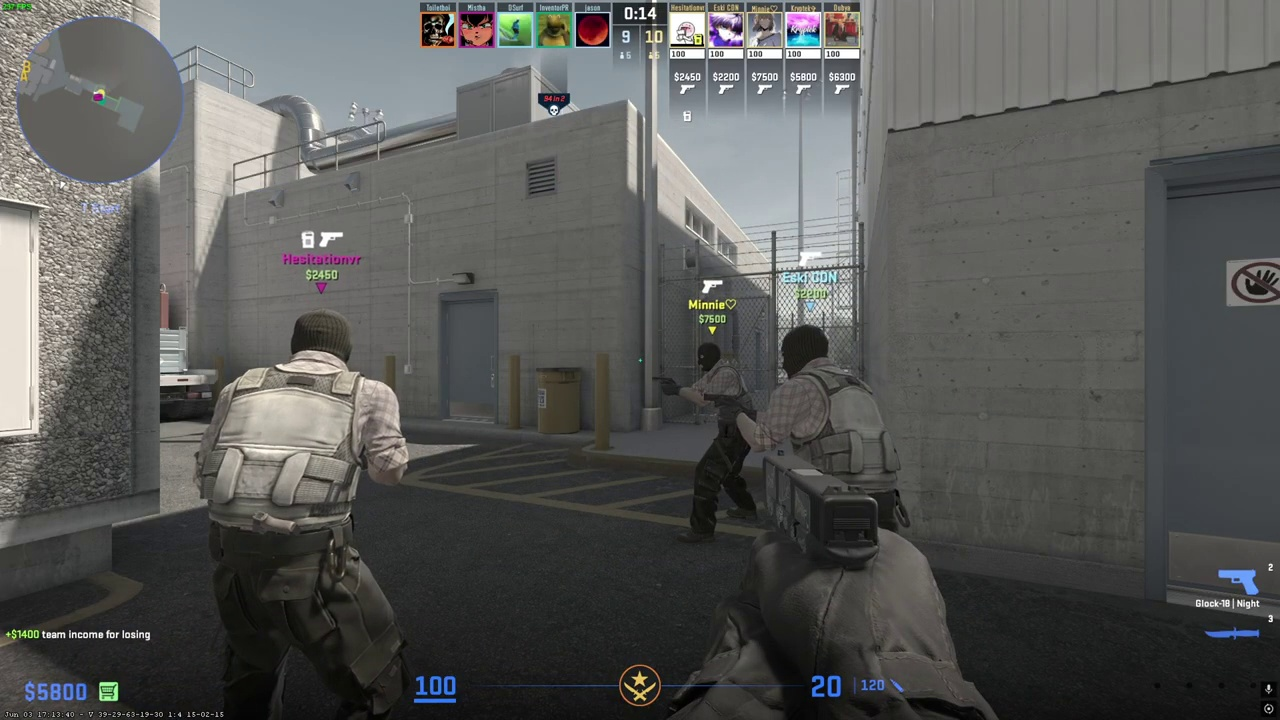Terrorist: (201, 312, 405, 720), (757, 324, 903, 545), (678, 341, 757, 544)
